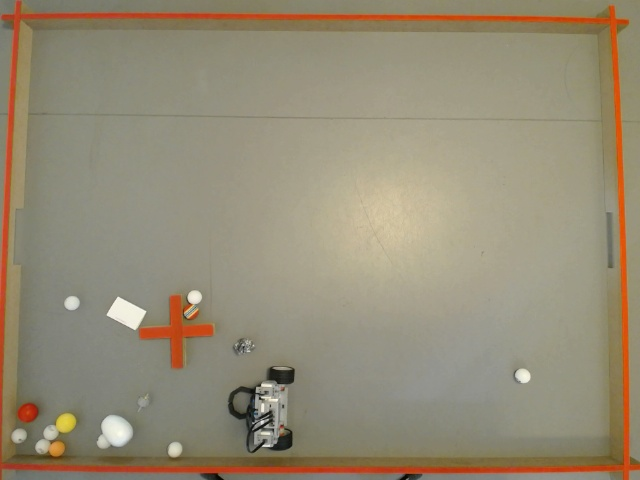big_goal: (1, 207, 22, 264), (604, 210, 624, 269)
cross: (140, 296, 214, 366)
egg: (103, 416, 130, 444)
orange: (50, 441, 62, 456)
robot: (228, 366, 295, 449)
wall: (597, 6, 631, 479), (1, 3, 35, 474), (2, 14, 630, 39), (1, 456, 637, 474)
white: (515, 368, 530, 381), (64, 297, 78, 308), (166, 444, 182, 453), (36, 440, 47, 453), (44, 426, 55, 438), (13, 429, 24, 441), (188, 290, 201, 300), (99, 437, 106, 446)
